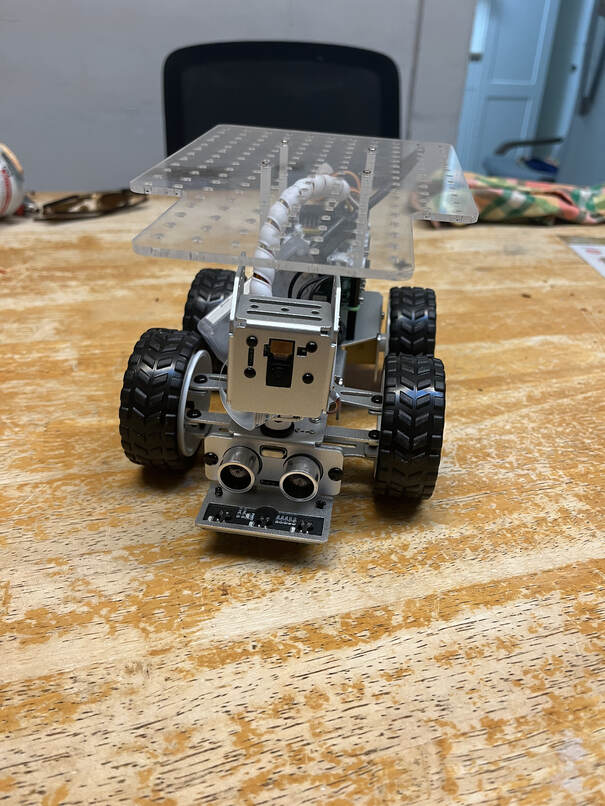vehicle: (118, 123, 496, 552)
